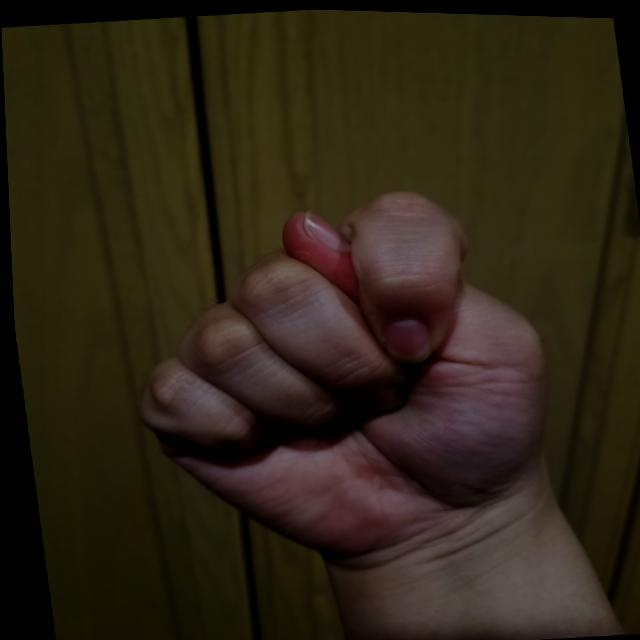T: (94, 164, 582, 591)
